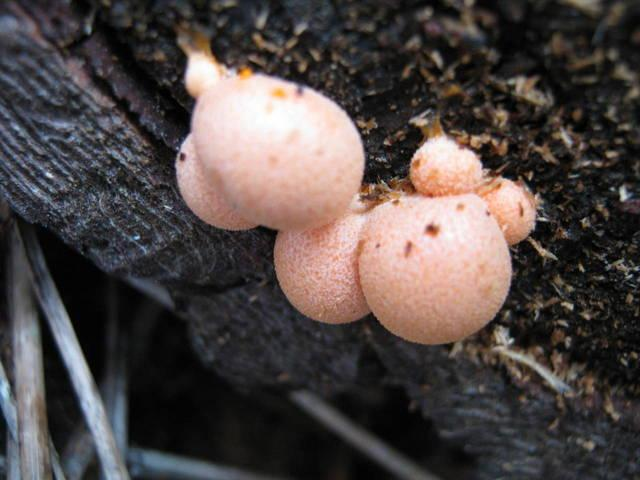Non-edible Mushroom: (172, 35, 538, 345), (173, 67, 366, 232), (356, 191, 513, 345), (407, 132, 537, 245), (272, 197, 372, 325)
